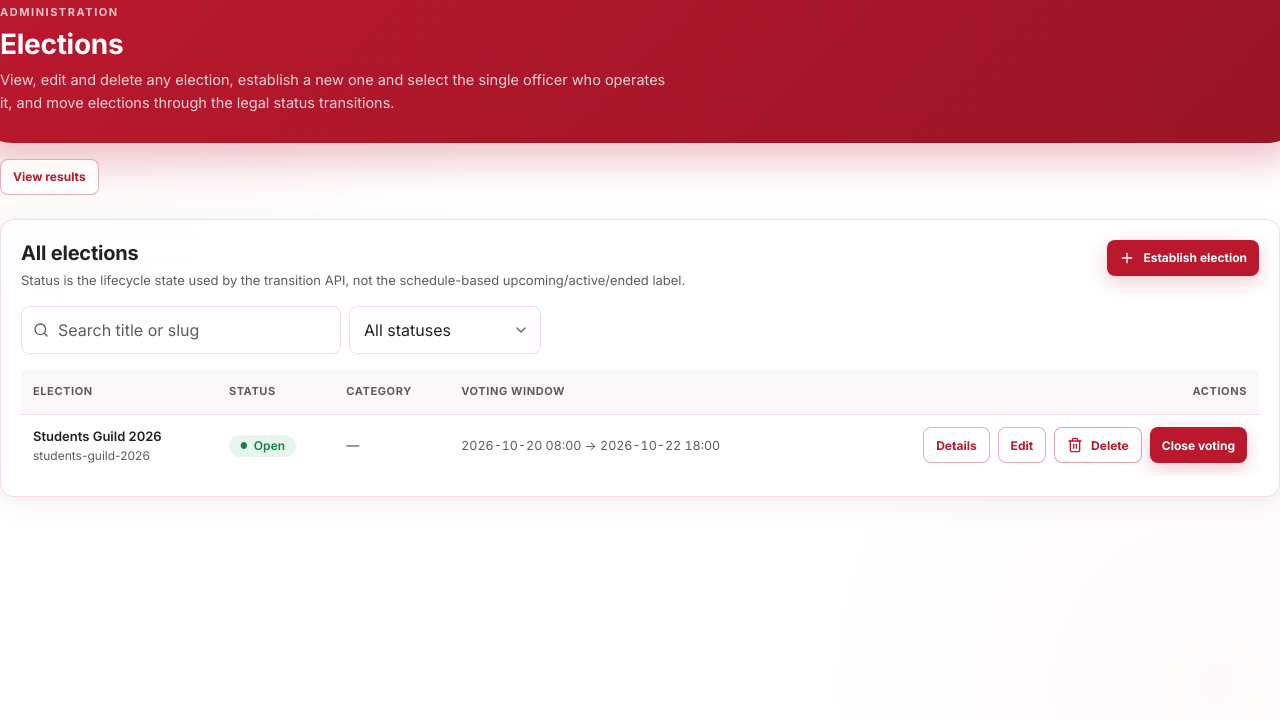
Test: admin elections page deletion › keeps the plain warning when no ballots were cast
Expected: the text "Students Guild 2026" is shown, [33,428,162,444]
Click the button "Delete" at (1098, 446), box [1054,428,1142,464]
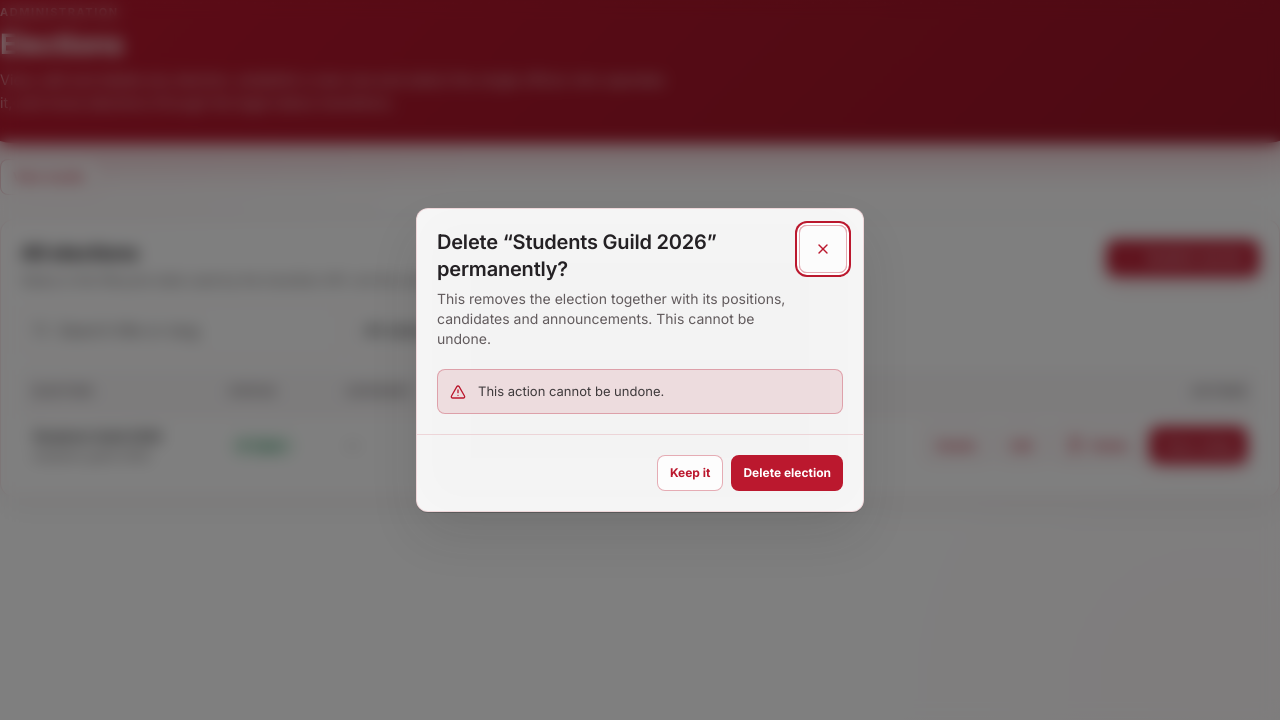
Expected: the text "announcements. This cannot be undone." is shown, [437,290,785,347]
